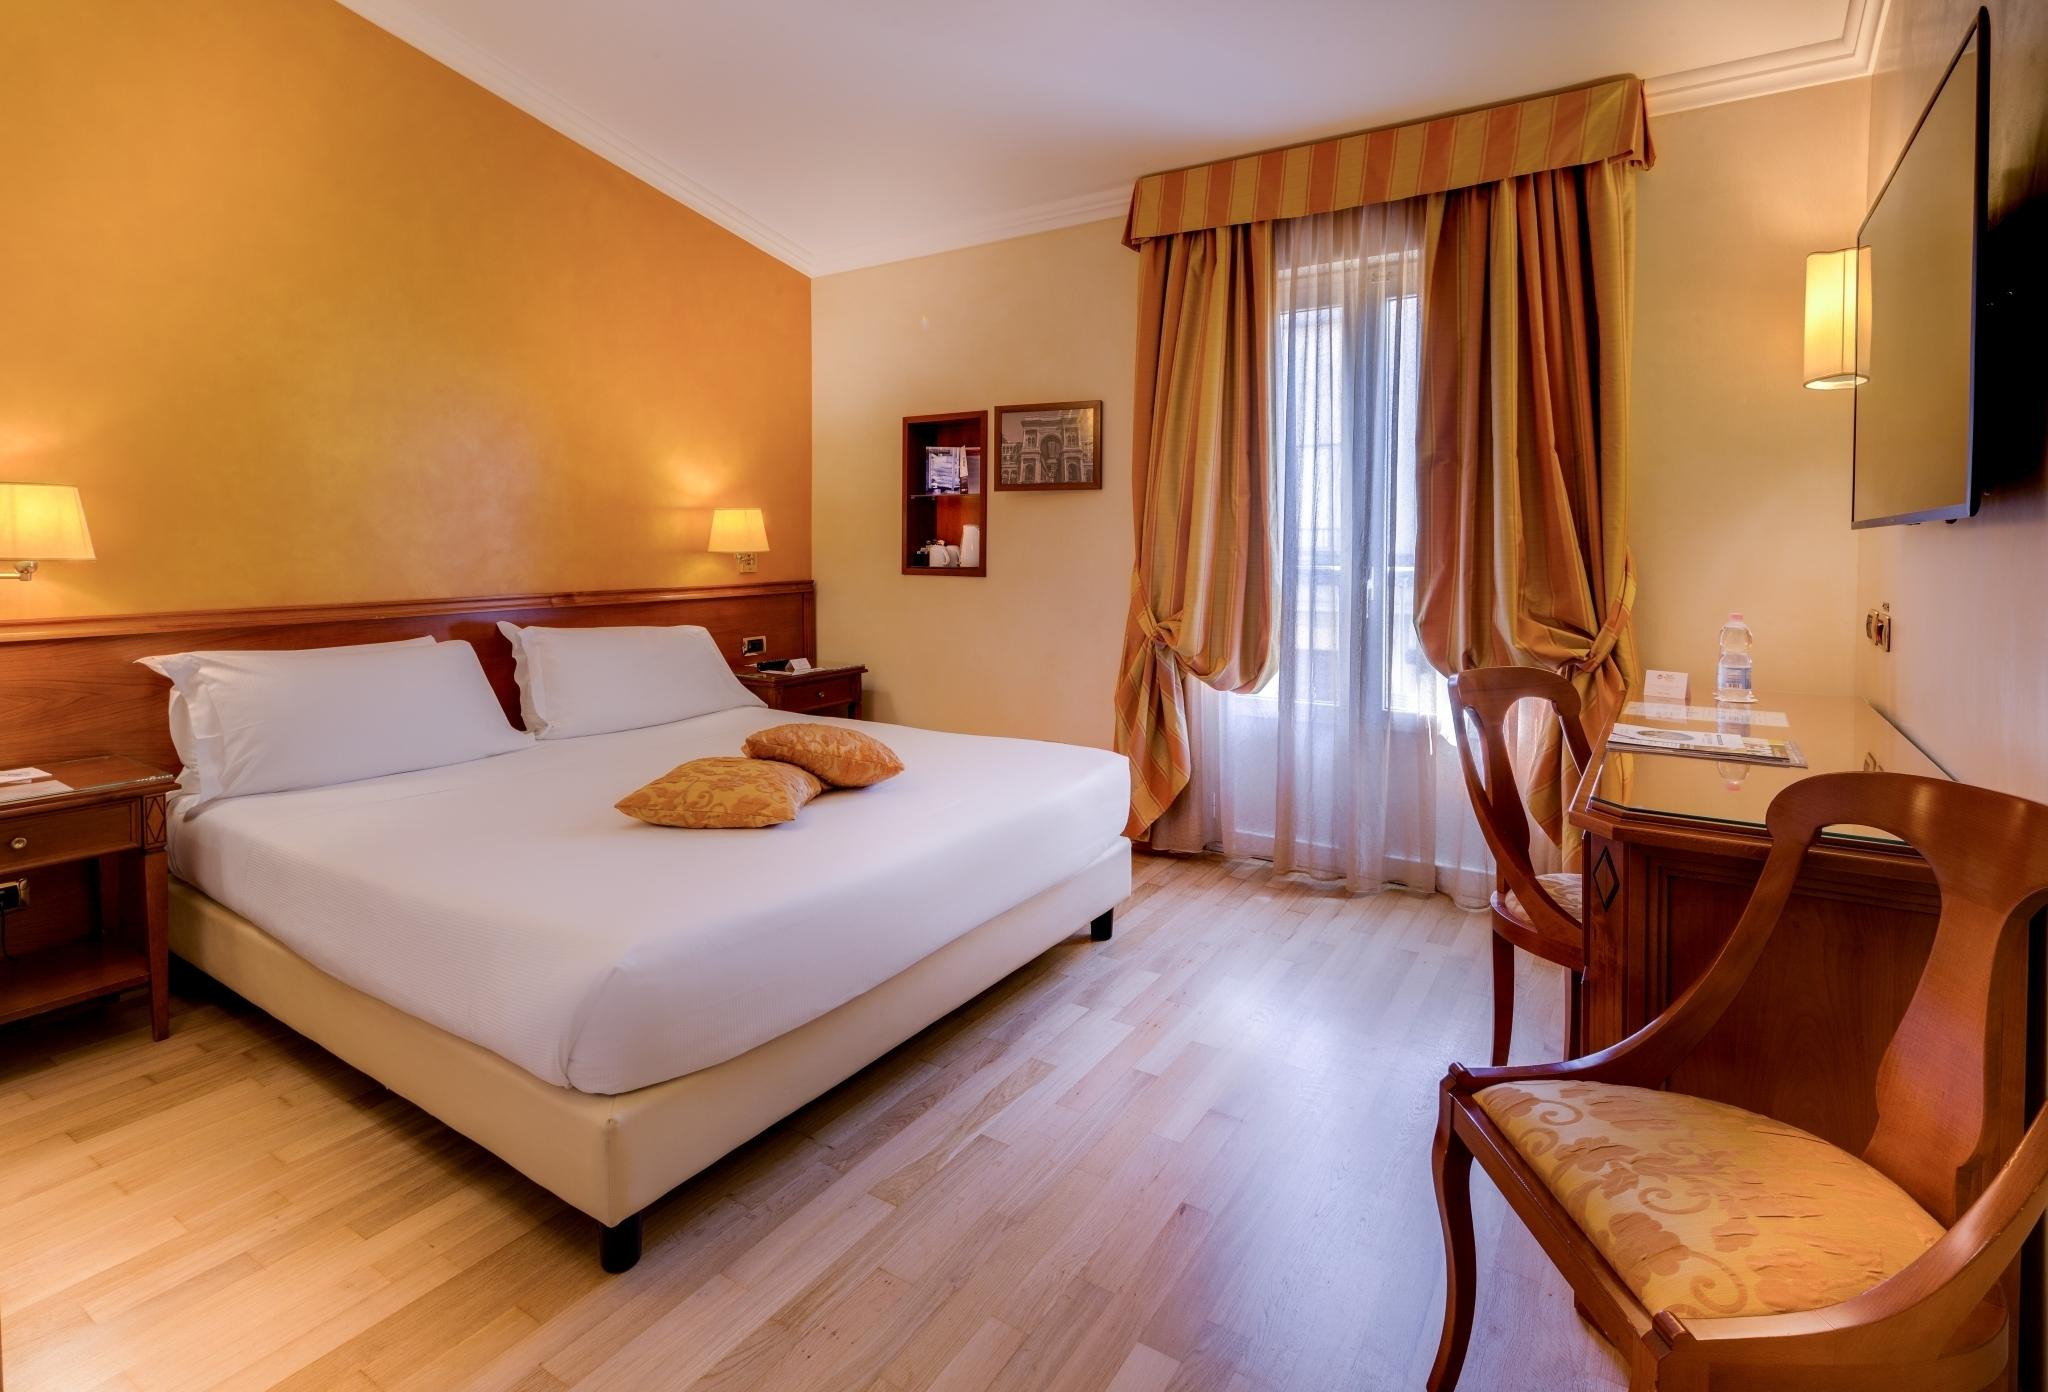bed: (127, 483, 1109, 1170)
